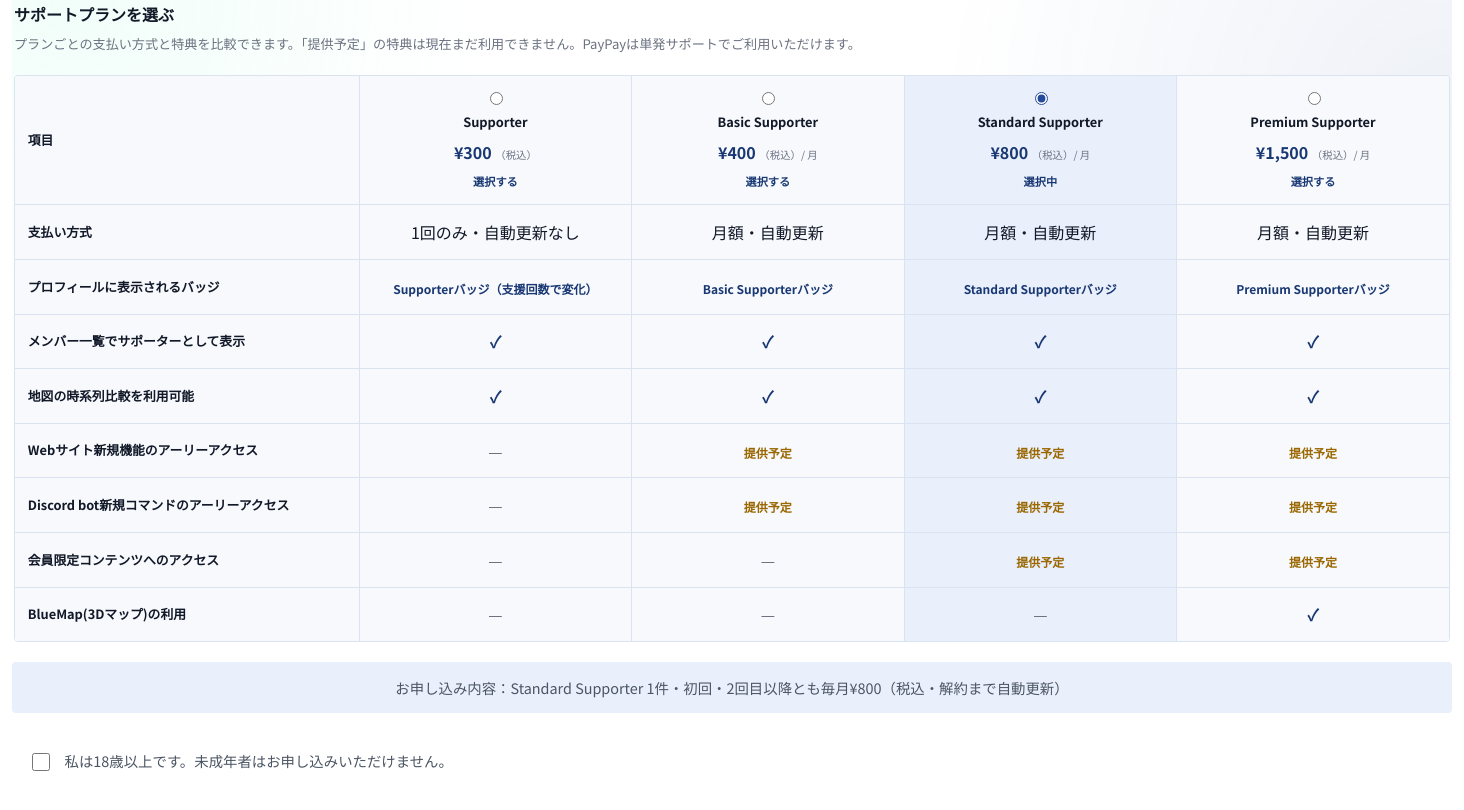
Scenario: SupportForm › offers one-time Supporter badge support for 300 JPY
What coordinates should you click on to do the following:
click the radio button labelled "Supporter ¥300 （税込） 選択する"
I would click on:
 (496, 98)
Its box is [490,92,503,105].
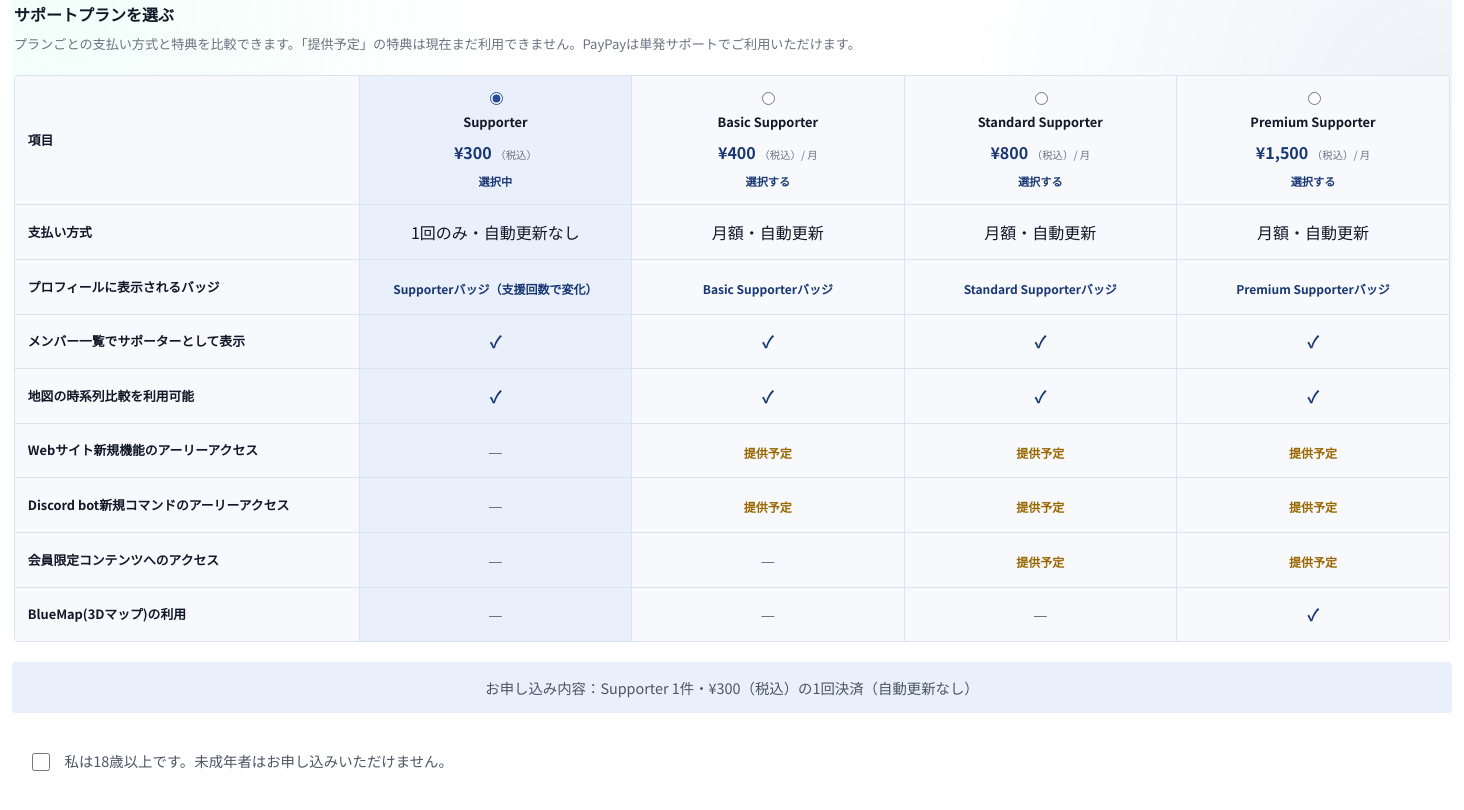
What coordinates should you click on to do the following:
click the checkbox labelled "私は18歳以上です。未成年者はお申し込みいただけません。"
I would click on:
 (41, 762)
Its box is [32,753,50,771].
(page scrolled)
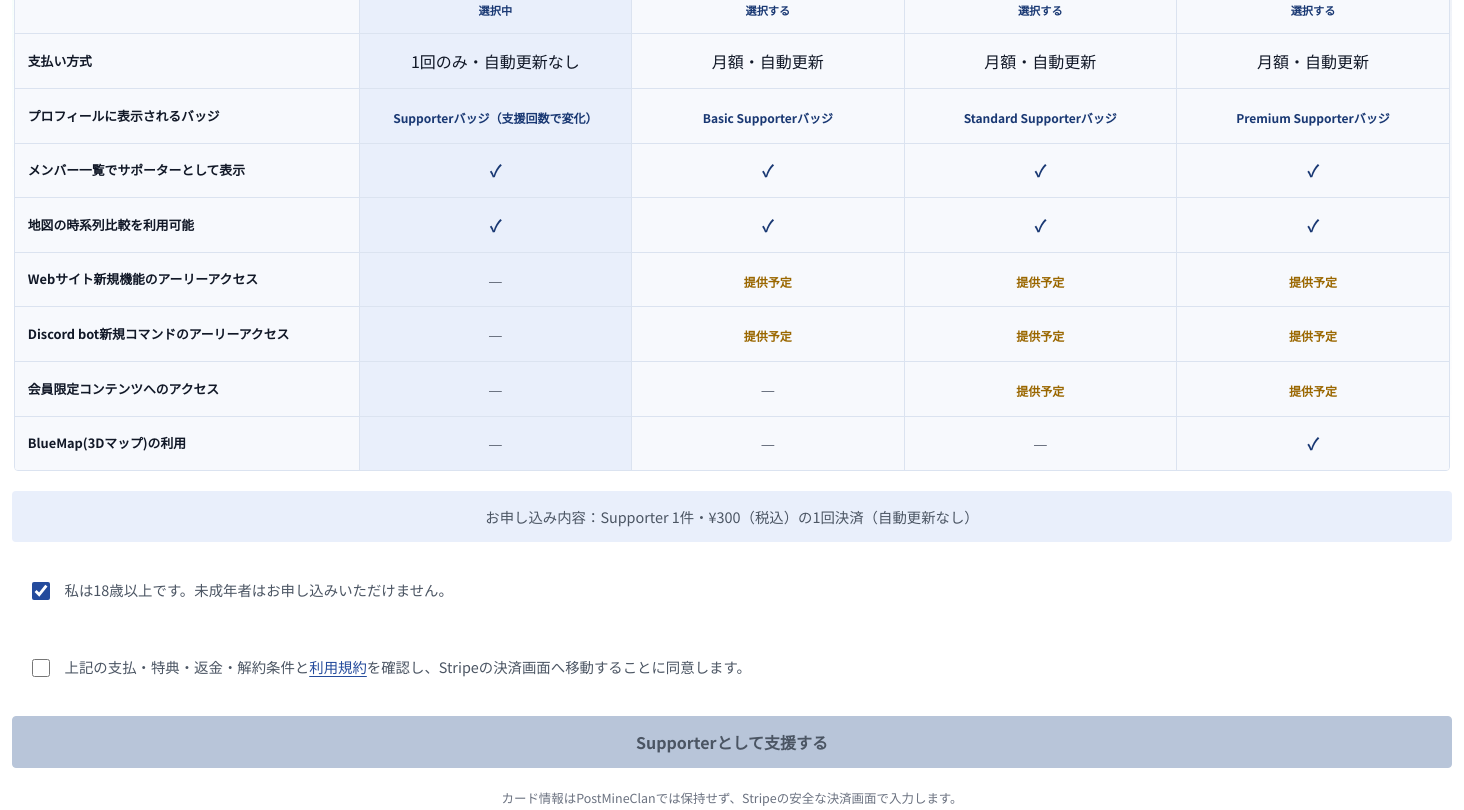
What coordinates should you click on to do the following:
click the checkbox labelled "上記の支払・特典・返金・解約条件と 利用規約 を確認し、Stripeの決済画面へ移動することに同意します。"
I would click on:
 (41, 668)
Its box is [32,659,50,678].
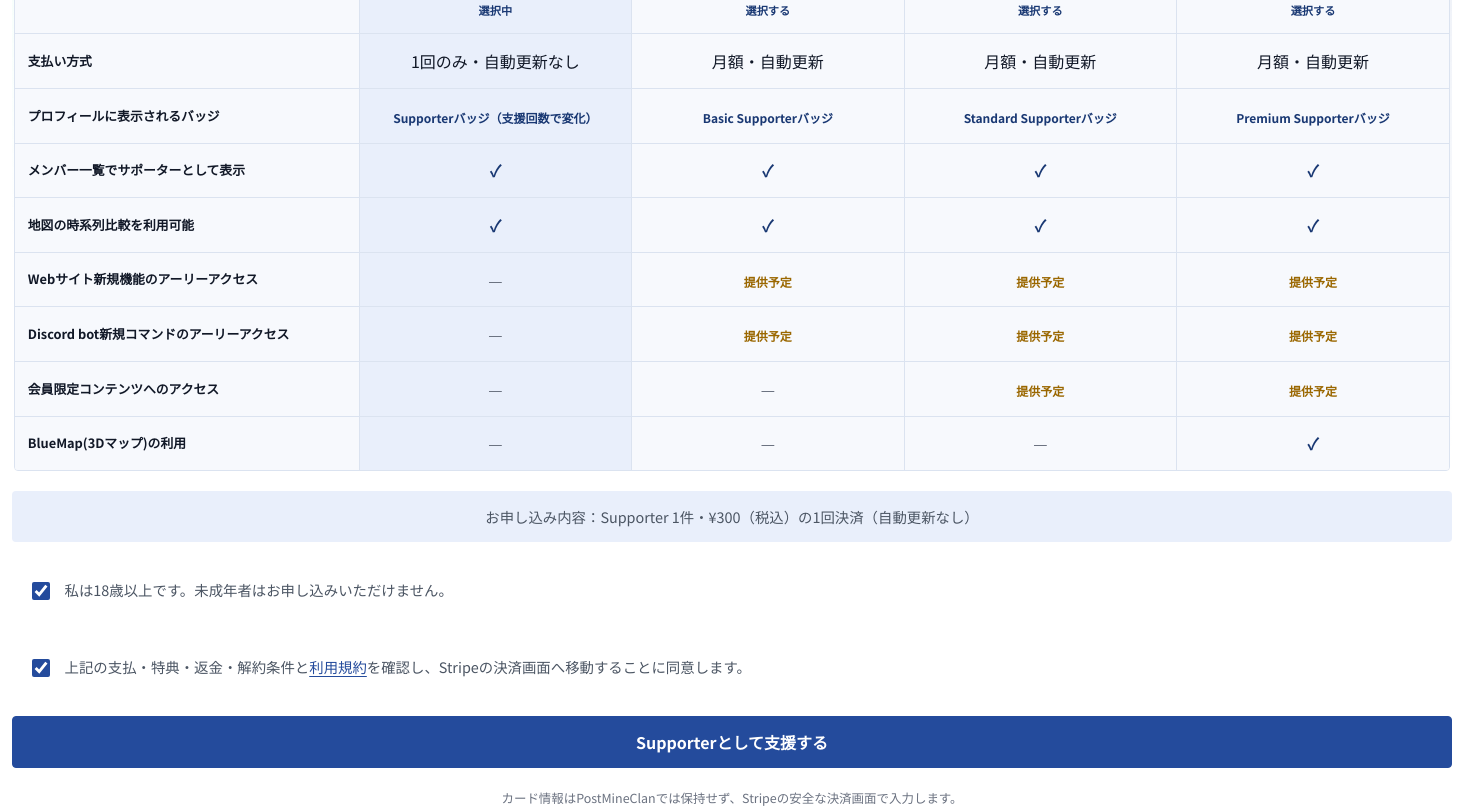
Expected: the text "Supporterバッジ（支援回数で変化）" is shown, [393,109,598,126]
Now the button "Supporterとして支援する" is enabled, box [12,716,1452,768]
